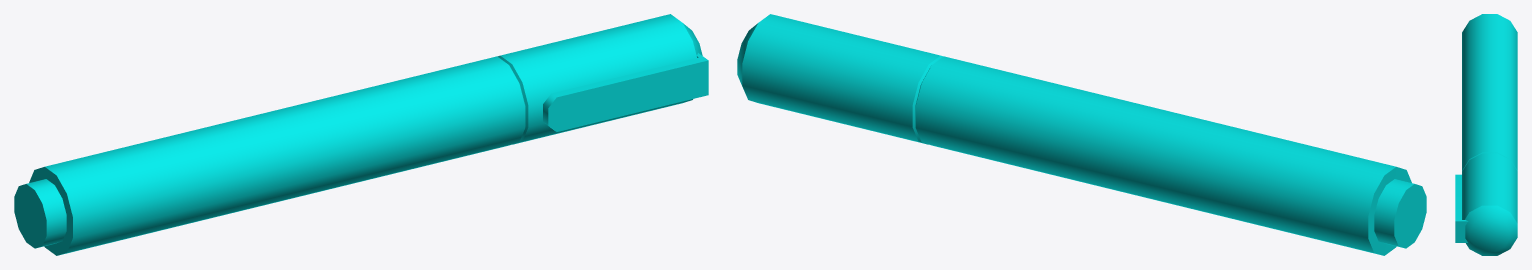
The model's file is classroomMarker.fbx.
3 renders of one model, left to right at view 1: azimuth 30°, elevation 25°; view 2: azimuth 150°, elevation 25°; view 3: azimuth 270°, elevation 25°, orthographic. The views are drawn at different scales.
Visible parts, largest first — view 1: classroomMarker; view 2: classroomMarker; view 3: classroomMarker.
Boxes of the visible parts, bbox=[...] form: classroomMarker: bbox=[14, 14, 708, 255]; classroomMarker: bbox=[737, 14, 1426, 255]; classroomMarker: bbox=[1455, 14, 1517, 255].
Bounding box in the file's own units: 12.38 × 1.45 × 1.63.
